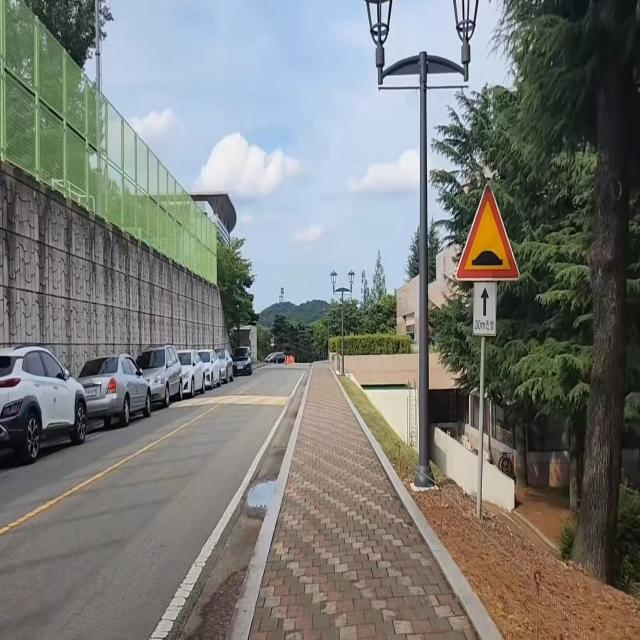obstacle: (361, 0, 482, 489), (0, 324, 97, 480), (81, 345, 246, 433)
road: (0, 363, 311, 640)
sidewalk: (229, 364, 505, 640)
